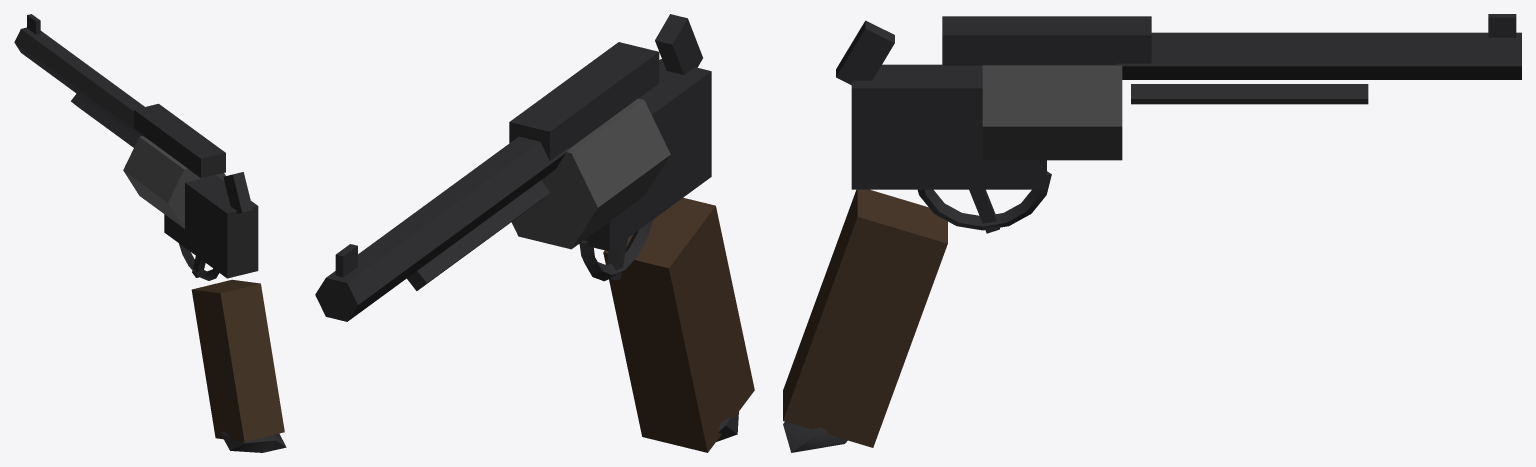
The model's file is revolver.glb.
3 views of the same model, side by side, from view 1: azimuth 30°, elevation 25°; view 2: azimuth 150°, elevation 25°; view 3: azimuth 270°, elevation 25° (orthographic). The views are drawn at different scales.
Parts seen in each view (by area): view 1: revolver; view 2: revolver; view 3: revolver.
Boxes of the visible parts, x1,y1,x2,y2 form: revolver: (14,14,286,452); revolver: (315,14,754,452); revolver: (783,14,1521,452).
Bounding box in the file's own units: 0.042 × 0.1663 × 0.2645.
